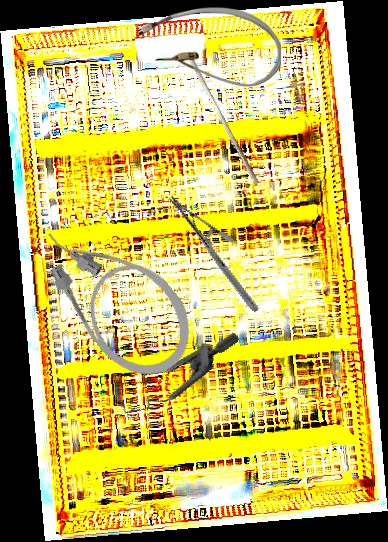Cannula: (23, 195, 212, 396), (138, 7, 281, 88)
Needle Holder: (140, 195, 287, 313)
Pusher: (181, 51, 265, 186)
Speculum: (103, 293, 241, 445)
